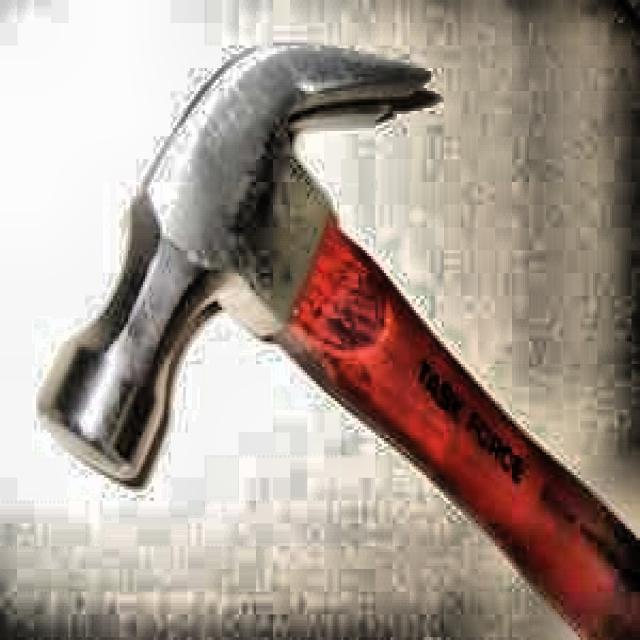hammer: (32, 42, 640, 630)
